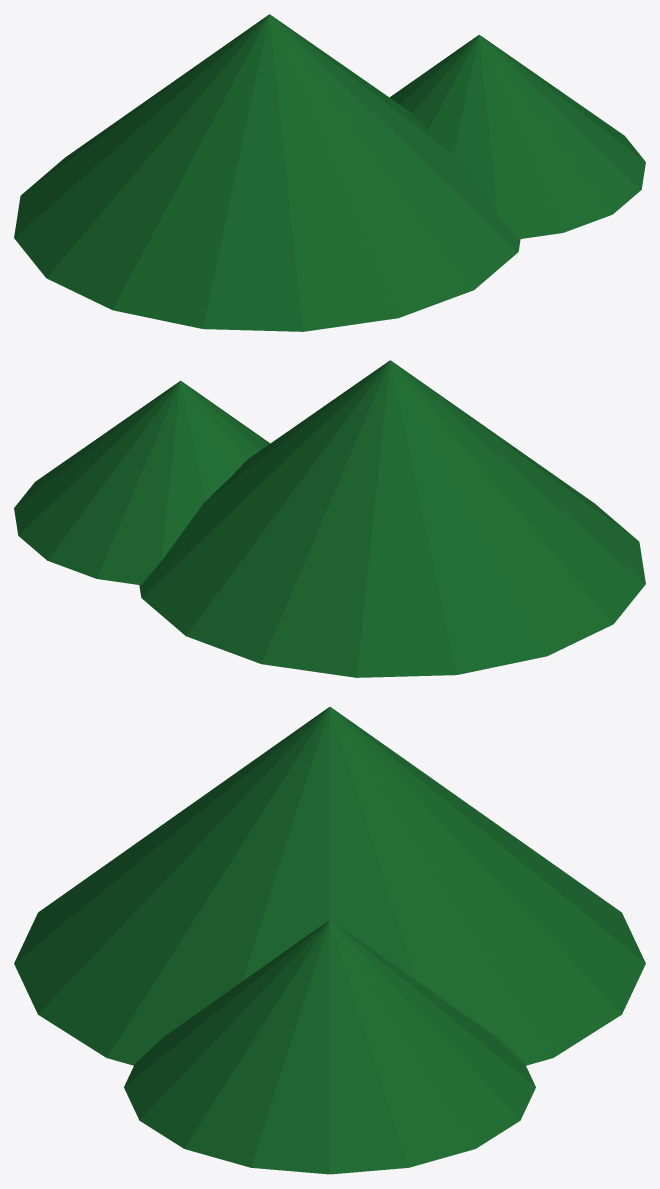
File: object10_mountainB.fbx
3 views of the same model, one above another, from view 1: azimuth 30°, elevation 25°; view 2: azimuth 150°, elevation 25°; view 3: azimuth 270°, elevation 25° (orthographic). The views are drawn at different scales.
Parts seen in each view (by area): view 1: mountain1, mountain2; view 2: mountain1, mountain2; view 3: mountain1, mountain2.
Part boxes in pixels (x1,y1,x2,y2): mountain1: (14, 14, 520, 331); mountain2: (390, 34, 645, 239); mountain1: (139, 360, 645, 677); mountain2: (14, 380, 269, 585); mountain1: (14, 707, 645, 1065); mountain2: (124, 920, 535, 1174).
Size of the model in its own units: 1571 by 544 by 1213.
